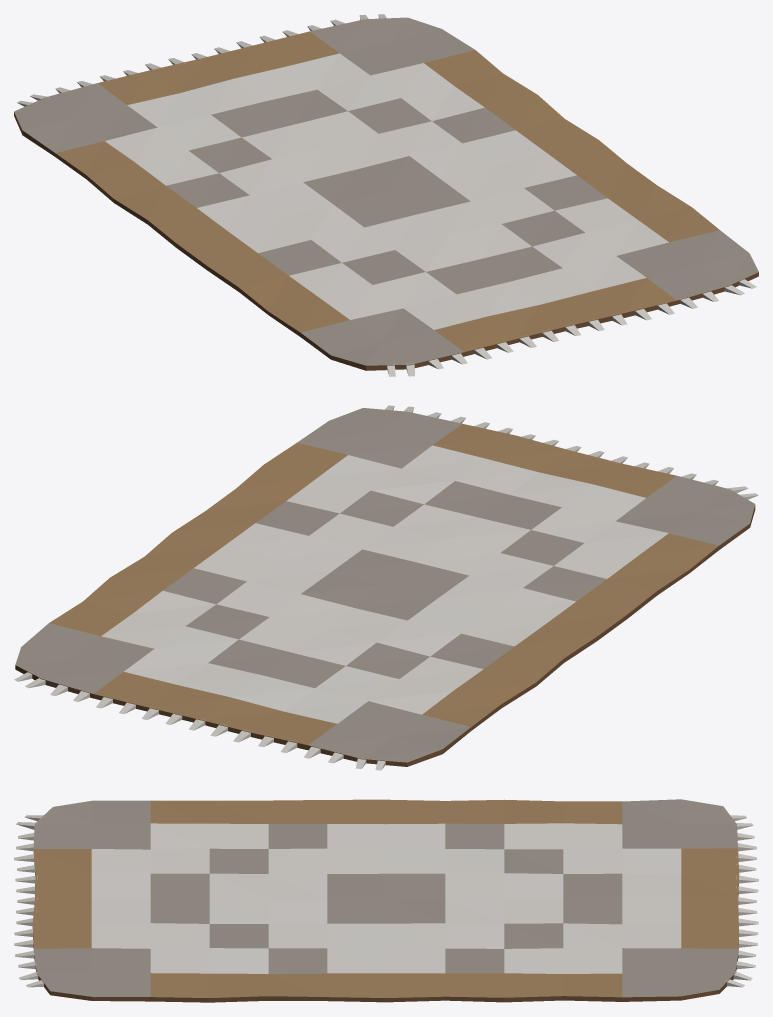
The model's file is wool-rug-ab2bd1.glb.
The picture shows the model from 3 angles, top to bottom: view 1: azimuth 30°, elevation 25°; view 2: azimuth 150°, elevation 25°; view 3: azimuth 270°, elevation 25°; orthographic projection. The views are drawn at different scales.
Parts seen in each view (by area): view 1: wool-rug; view 2: wool-rug; view 3: wool-rug.
Part boxes in pixels (left/top/right/bottom): wool-rug: left=14, top=14, right=758, bottom=376; wool-rug: left=14, top=405, right=758, bottom=770; wool-rug: left=14, top=799, right=758, bottom=1002.
Size of the model in its own units: 2 by 0.0232 by 3.16.
